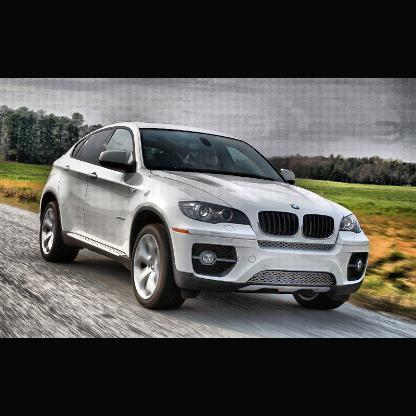BMW X6 SUV 2012: (39, 122, 374, 316)
